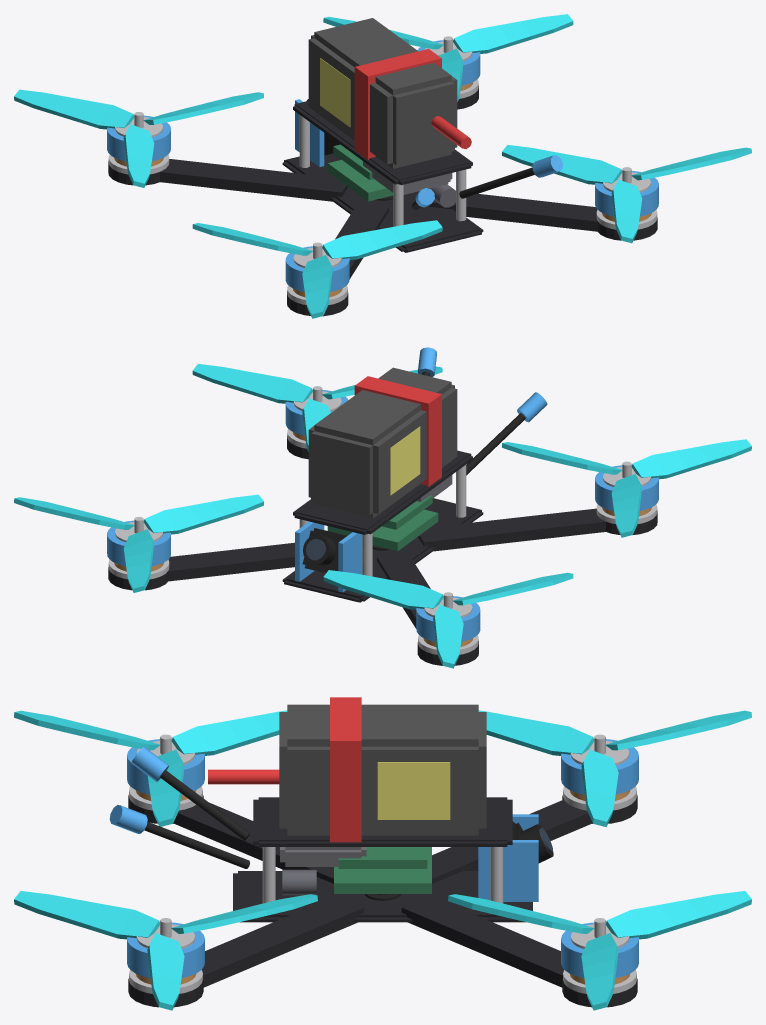
The model's file is squashed5.glb.
3 renders of one model, top to bottom at view 1: azimuth 30°, elevation 25°; view 2: azimuth 150°, elevation 25°; view 3: azimuth 270°, elevation 25°, orthographic. The views are drawn at different scales.
Parts seen in each view (by area): view 1: body, prop_FL, prop_RL, prop_RR, prop_FR, cam_mount; view 2: body, prop_FL, prop_RL, prop_FR, prop_RR, cam_mount, fpv_cam; view 3: body, prop_FR, prop_RR, prop_FL, prop_RL, cam_mount, fpv_cam.
Part boxes in pixels (box(x1,y1,x2,y2)): body: box(107, 18, 658, 316); prop_FL: box(14, 89, 393, 200); prop_RL: box(192, 220, 442, 318); prop_RR: box(502, 145, 751, 243); prop_FR: box(323, 14, 573, 101); cam_mount: box(295, 99, 324, 166); body: box(107, 347, 658, 665); prop_FL: box(323, 545, 573, 668); prop_RL: box(502, 439, 751, 537); prop_FR: box(14, 494, 263, 592); prop_RR: box(192, 364, 442, 451); cam_mount: box(295, 521, 362, 592); fpv_cam: box(302, 528, 347, 573); body: box(109, 697, 638, 1007); prop_FR: box(448, 891, 751, 1010); prop_RR: box(14, 891, 317, 1010); prop_FL: box(365, 710, 751, 900); prop_RL: box(14, 710, 287, 826); cam_mount: box(478, 814, 538, 901); fpv_cam: box(512, 821, 553, 863).
Size of the model in its own units: 0.2634 by 0.0793 by 0.2788.
